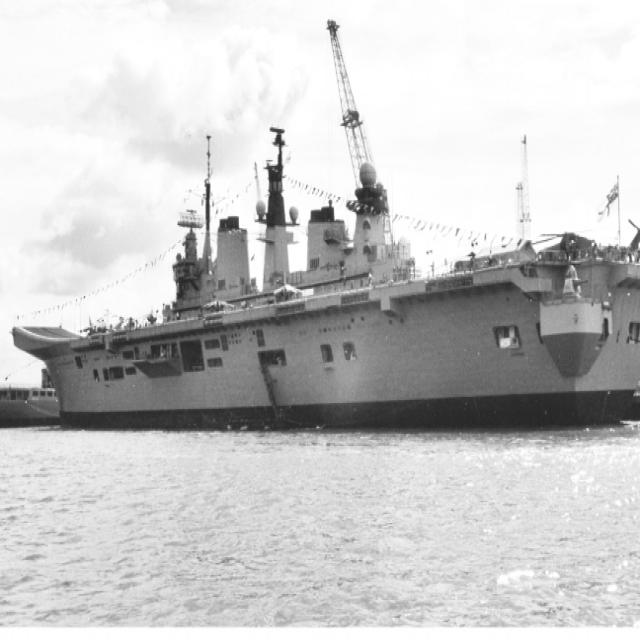Portanaves: (10, 114, 640, 437)
